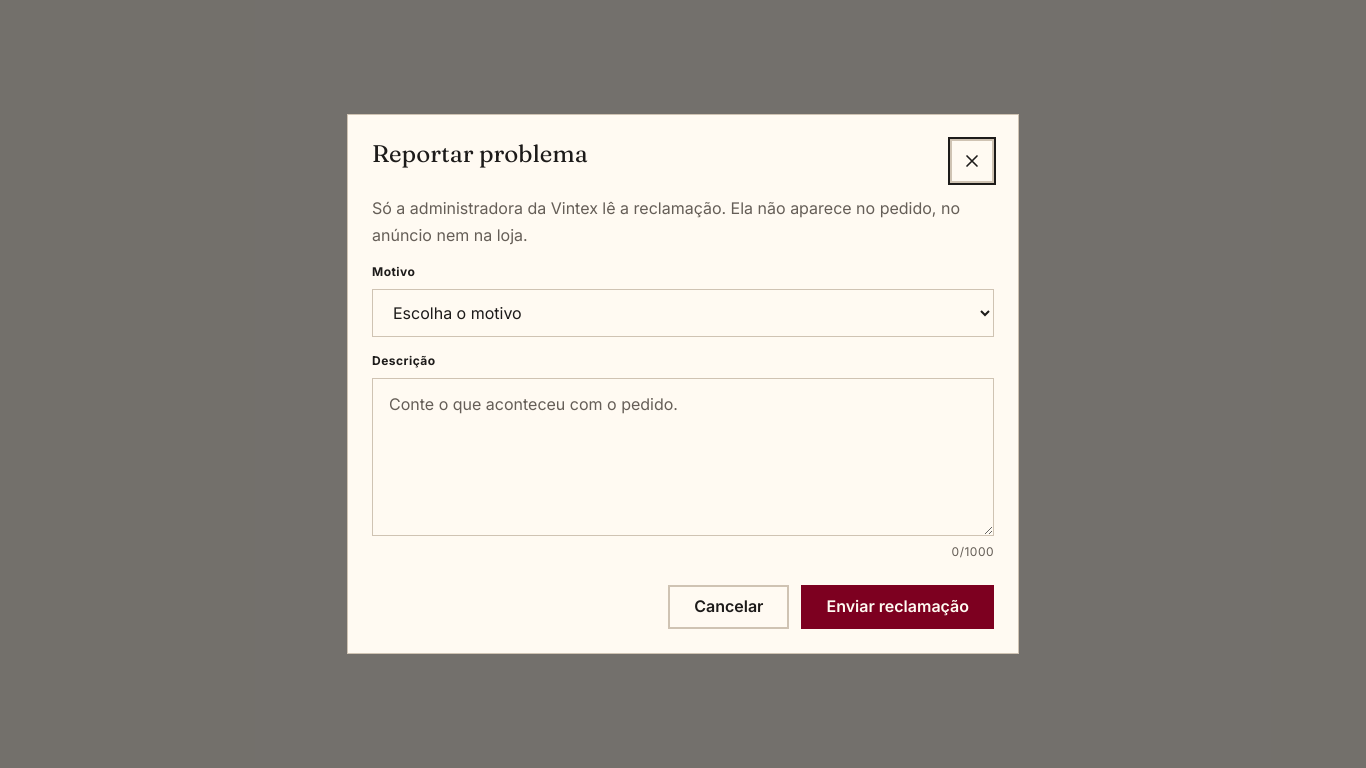
<ReportProblemDialog /> › sem motivo nem descrição: dois erros e foco no primeiro campo da tela
The width and height of the screenshot is (1366, 768).
Click the button "Enviar reclamação": [898, 607] box [802, 585, 994, 629]
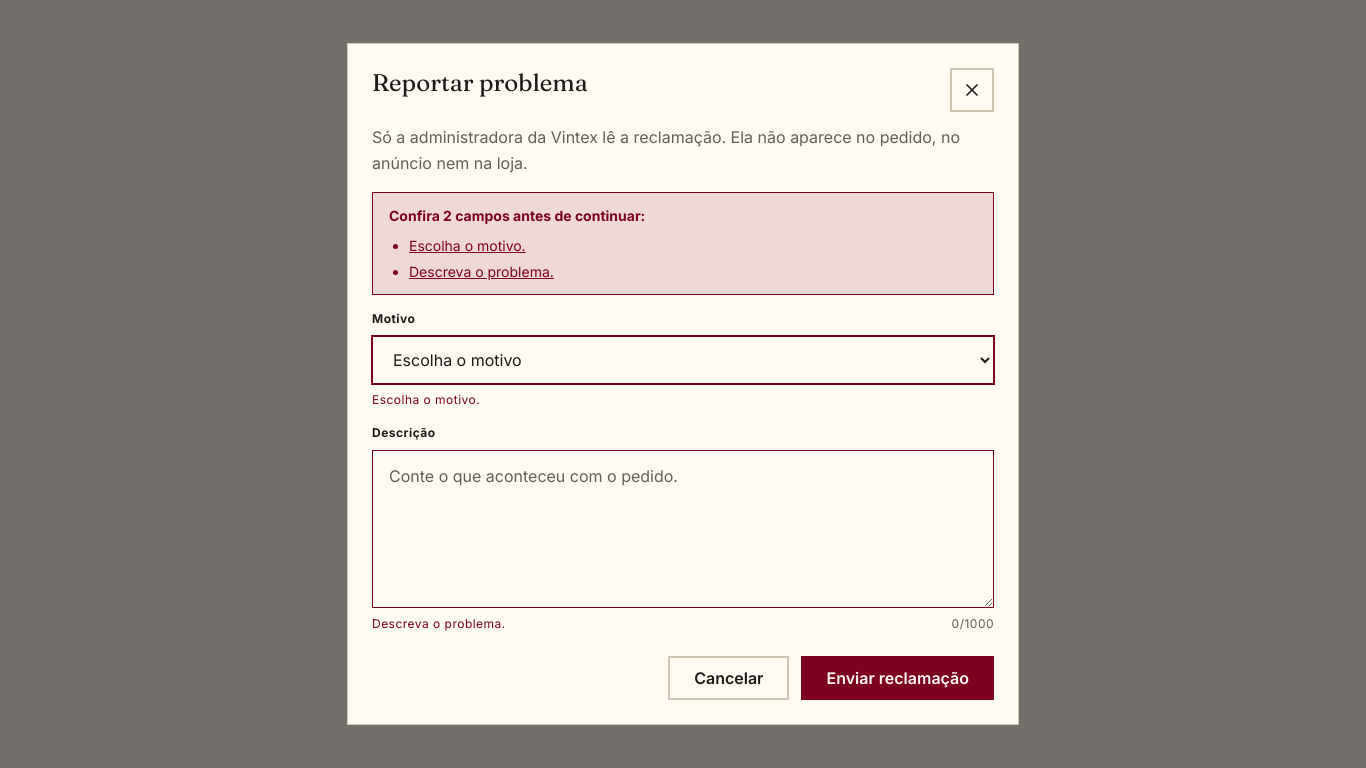
Check: the message shows "Confira 2 campos antes de continuar:", box [389, 207, 645, 224]
